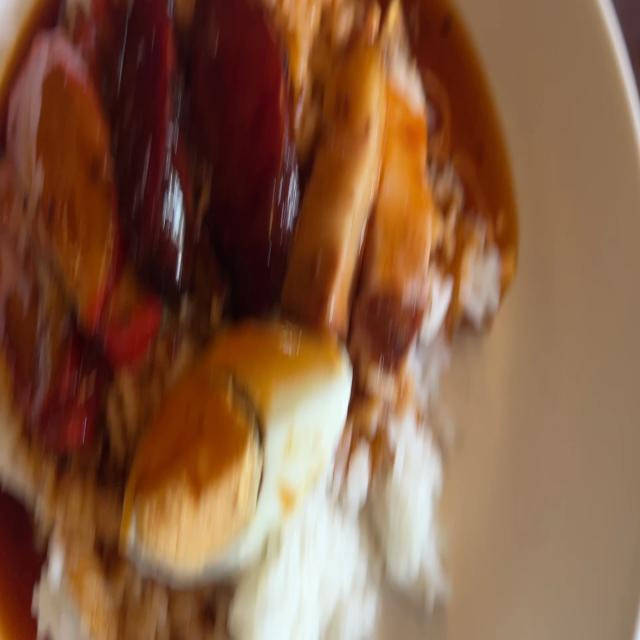red_pork_and_crispy_pork: (120, 324, 338, 586)
stir_fried_basil: (121, 4, 302, 294), (200, 0, 293, 290), (120, 0, 193, 283)
